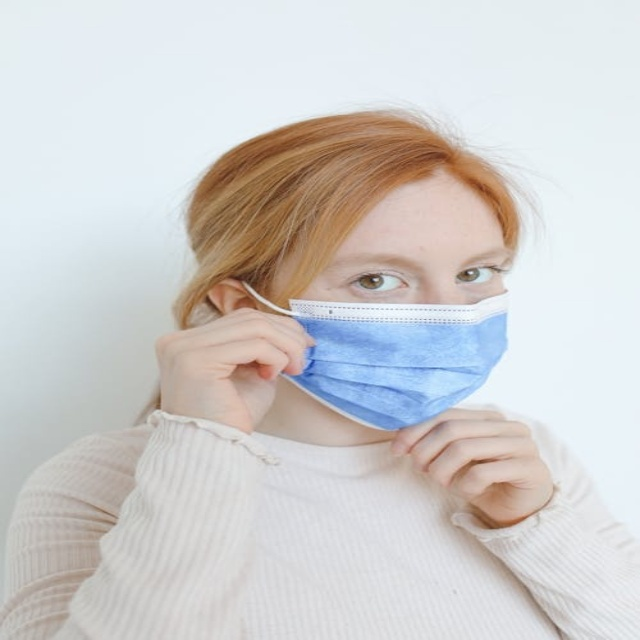Mascara: (244, 279, 512, 432)
Sin_gafas: (347, 270, 410, 293), (455, 264, 506, 285)
Sin_guantes: (146, 302, 308, 432), (383, 404, 557, 521)
